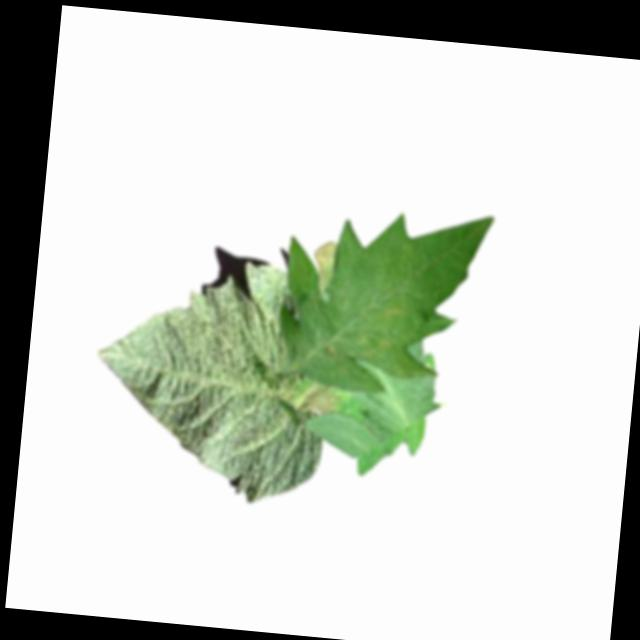Late_blight: (352, 295, 418, 368), (298, 380, 342, 418), (309, 239, 339, 294)
